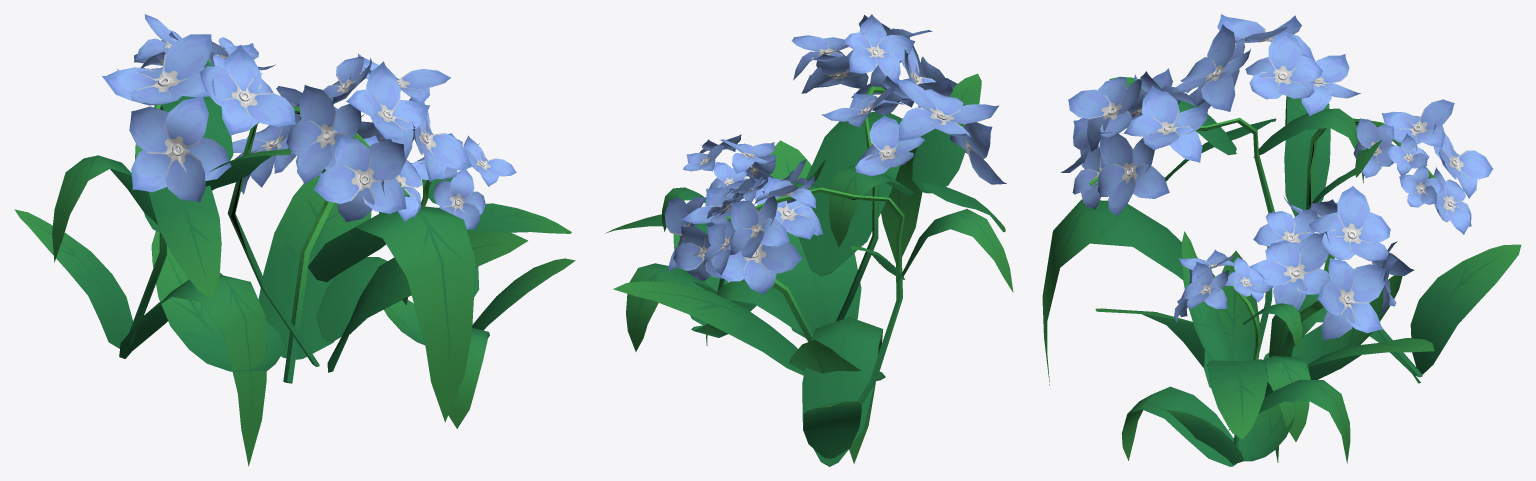
Rendered from SM_Myosotis4.fbx.
3 renders of one model, left to right at view 1: azimuth 30°, elevation 25°; view 2: azimuth 150°, elevation 25°; view 3: azimuth 270°, elevation 25°, orthographic. The views are drawn at different scales.
Parts seen in each view (by area): view 1: Myosotis_Feuille_038; view 2: Myosotis_Feuille_038; view 3: Myosotis_Feuille_038.
Boxes of the visible parts, bbox=[...] form: Myosotis_Feuille_038: bbox=[14, 14, 575, 466]; Myosotis_Feuille_038: bbox=[605, 14, 1013, 466]; Myosotis_Feuille_038: bbox=[1042, 14, 1521, 466].
Size of the model in its own units: 56.16 by 51.08 by 49.
1 material, 1 textured.
